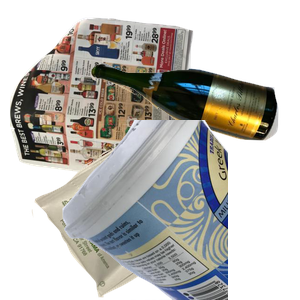glass: (88, 60, 300, 193)
paper: (10, 15, 196, 195)
plastic: (60, 120, 300, 300)
trash: (29, 124, 238, 300)
